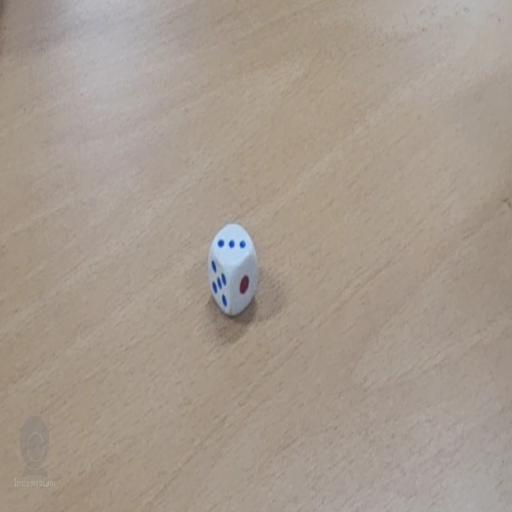dice_3: (206, 222, 259, 319)
